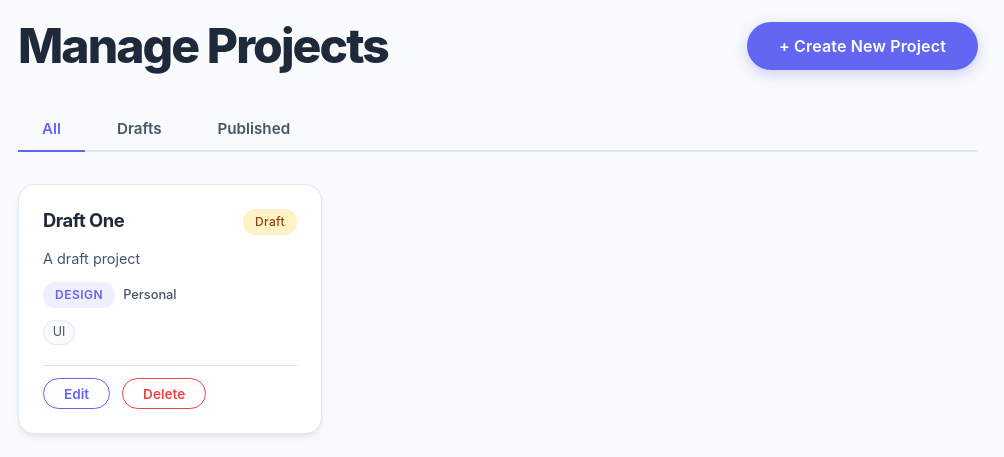
Test: ProjectsManager › Empty states › shows empty published message
What coordinates should you click on to do the following:
click the tab "Published"
I would click on:
 (254, 129)
Its box is top-left (194, 107), bottom-right (314, 152).
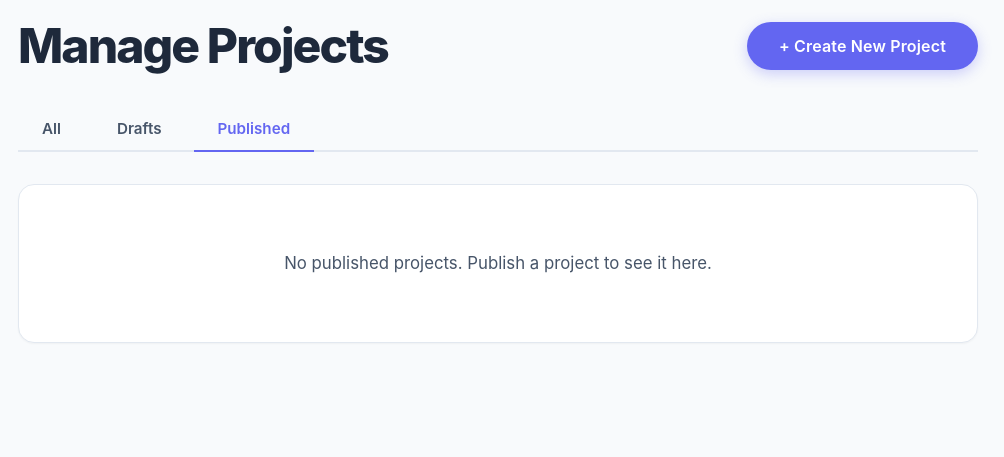
Now the text "No published projects. Publish a project to see it here." is shown, box top-left (284, 253), bottom-right (712, 273)
